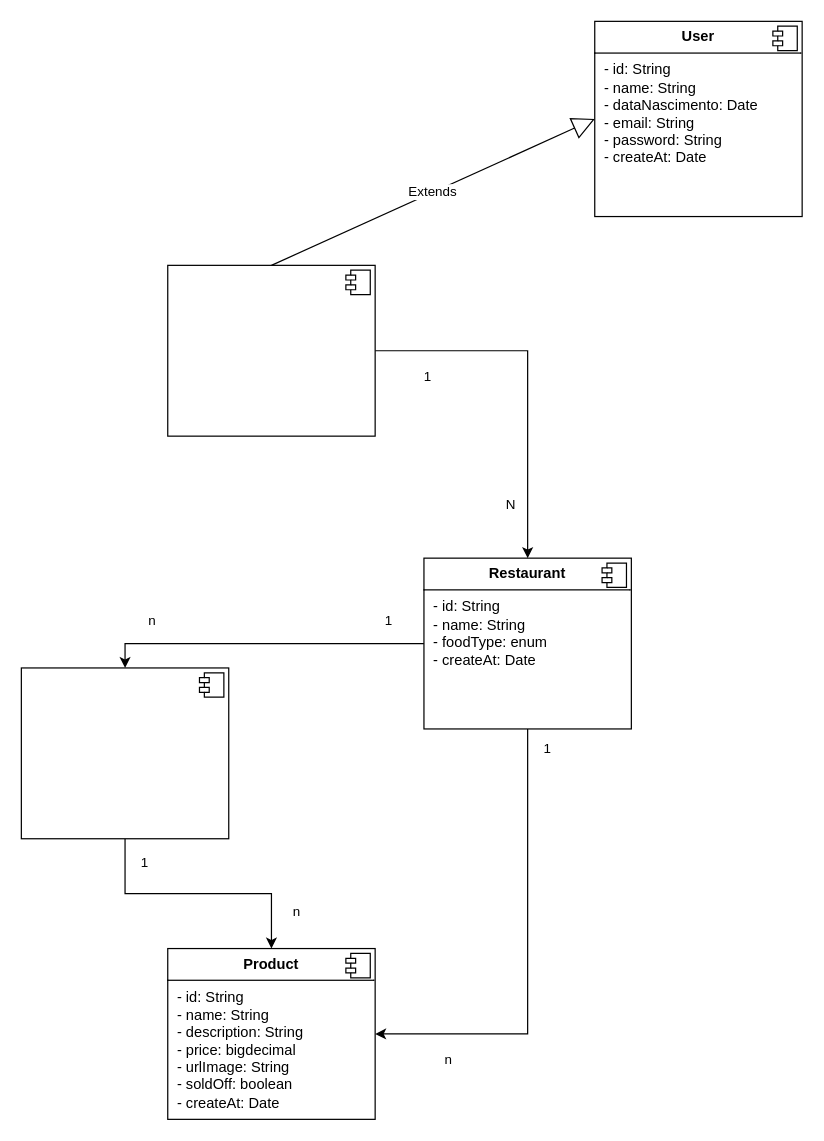
Some shapes in this 824 by 1141 pixel diagram are drawn without their labels. The centre of each missing label's shape, as x and y in pixels:
Category - id: String - name: String - createAt: Date: pixel 124 753
UserAdmin - cnpj: String: pixel 271 350
